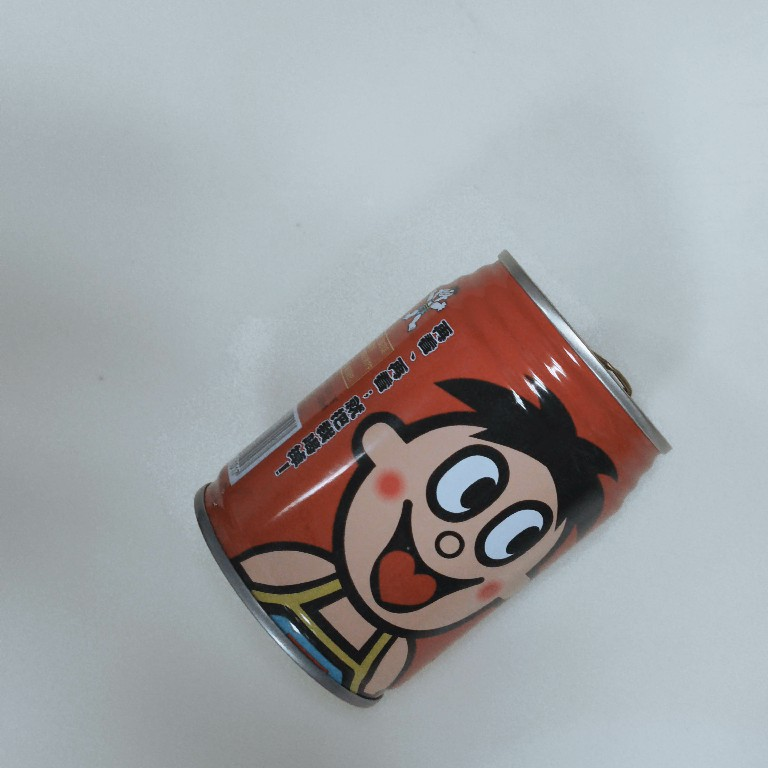can: (190, 248, 677, 713)
